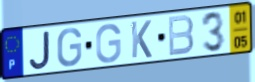3: (200, 10, 226, 54)
B: (166, 14, 195, 58)
G: (95, 22, 123, 65), (56, 26, 83, 68)
J: (28, 29, 52, 71)
K: (130, 19, 154, 60)
